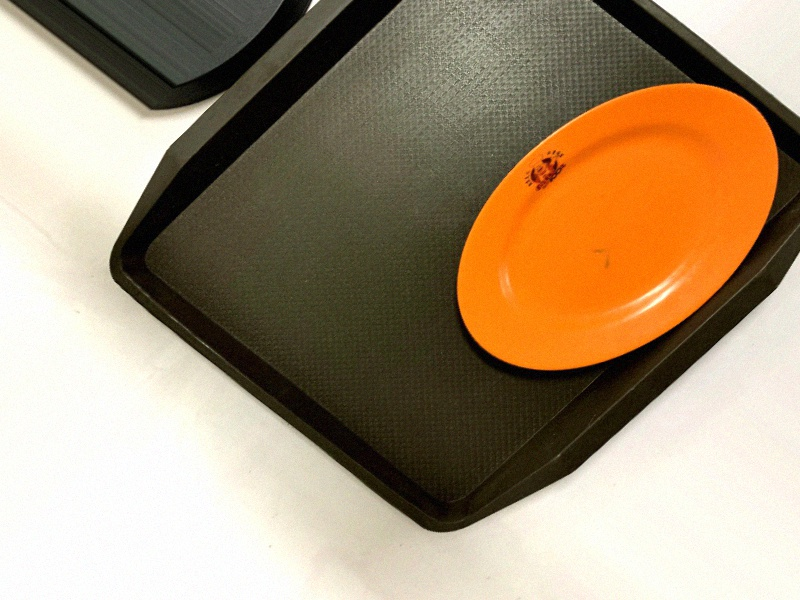dish10: (380, 26, 799, 432)
